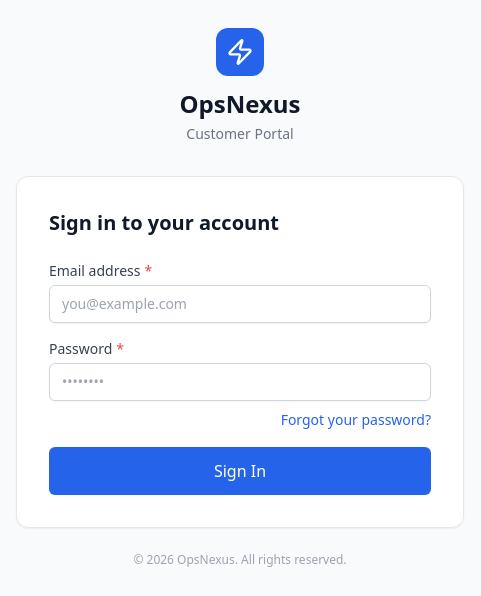
it: LoginPage › shows password validation error when password is too short
This screenshot has width=481, height=596.
In the field labelled "Email address*": (240, 304) x1=49 y1=285 x2=431 y2=323, type "test@example.com"
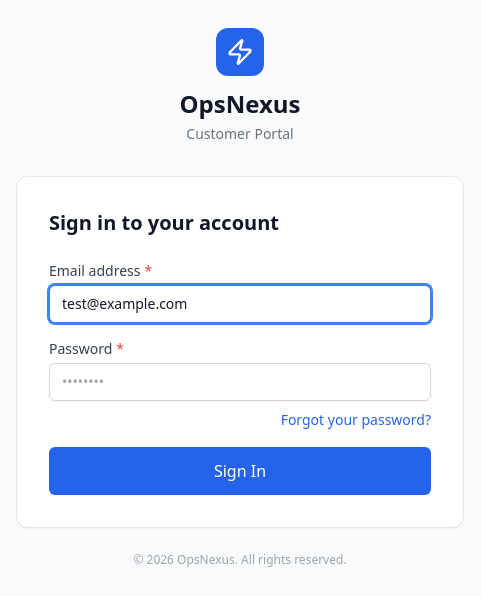
In the password field labelled "Password*": (240, 382) x1=49 y1=363 x2=431 y2=401, type "abc"
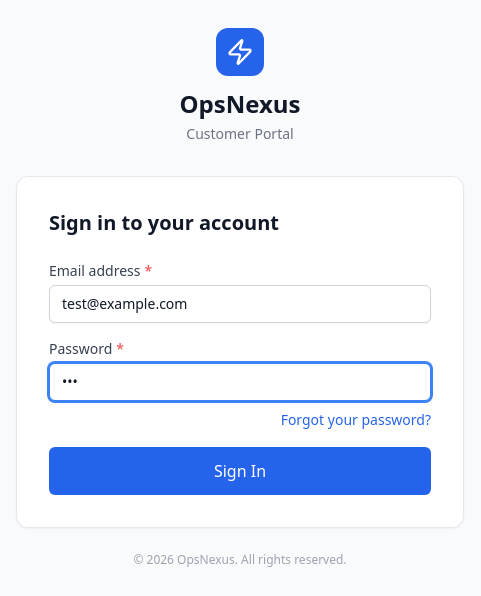
Click the button "Sign In": click(240, 471) x1=49 y1=447 x2=431 y2=495
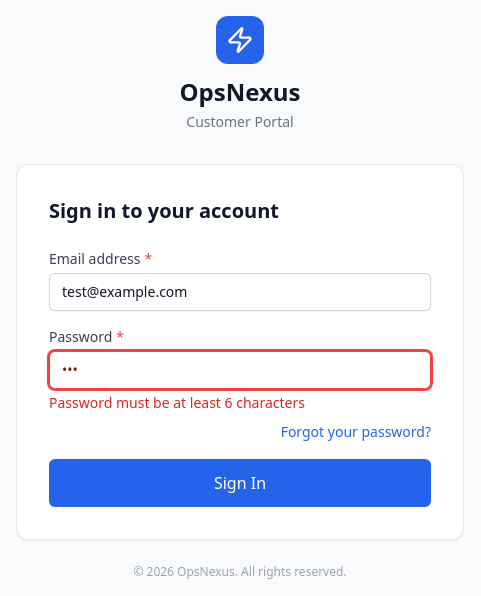
Result: the text "Password must be at least 6 characters" is shown at x1=49 y1=393 x2=305 y2=412
